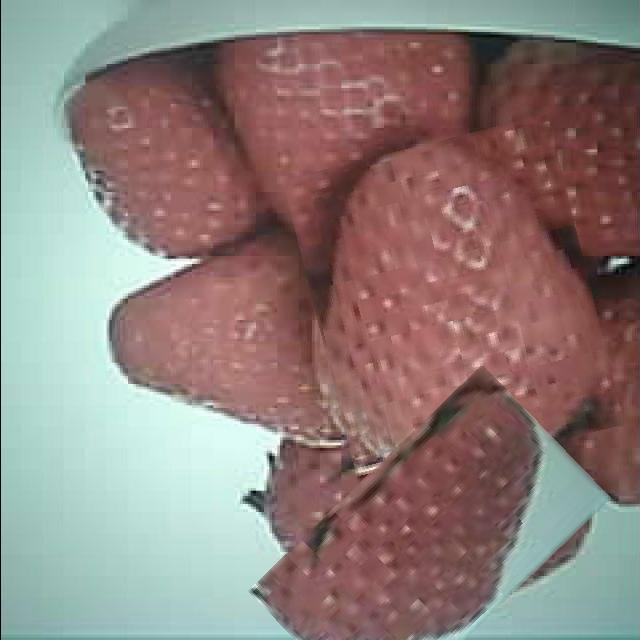strawberry: (298, 128, 606, 476), (257, 409, 601, 640)
